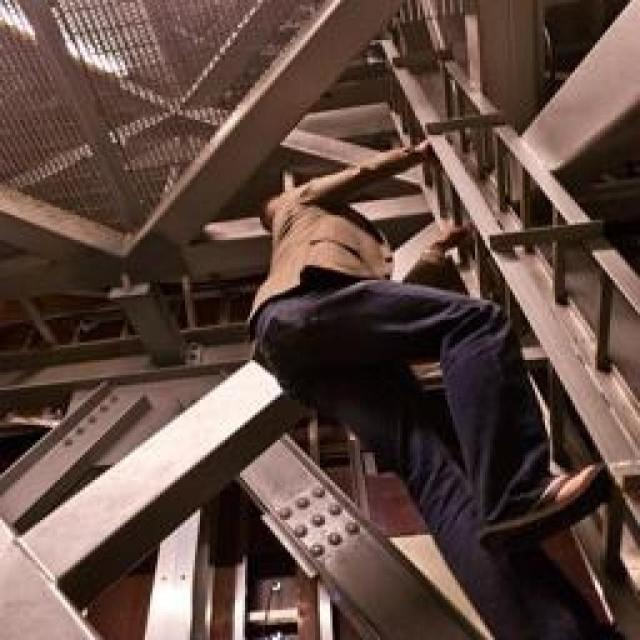Helmet: (250, 188, 386, 338)
